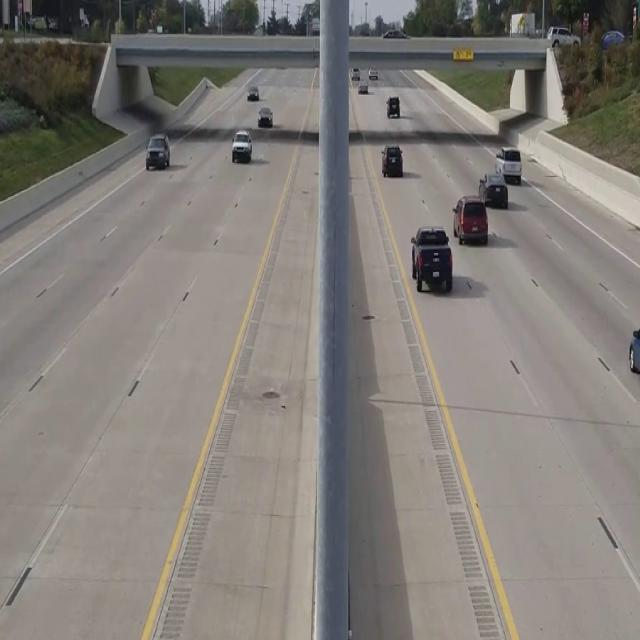car: (410, 225, 452, 292), (452, 196, 488, 244), (628, 319, 640, 396), (146, 133, 169, 169), (380, 144, 402, 177), (231, 129, 251, 163), (601, 29, 624, 49), (257, 106, 272, 126)
